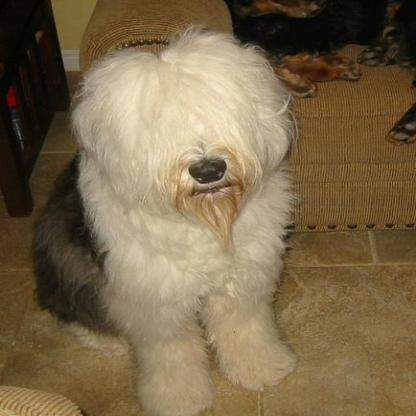Old_English_sheepdog: (29, 20, 301, 412)
